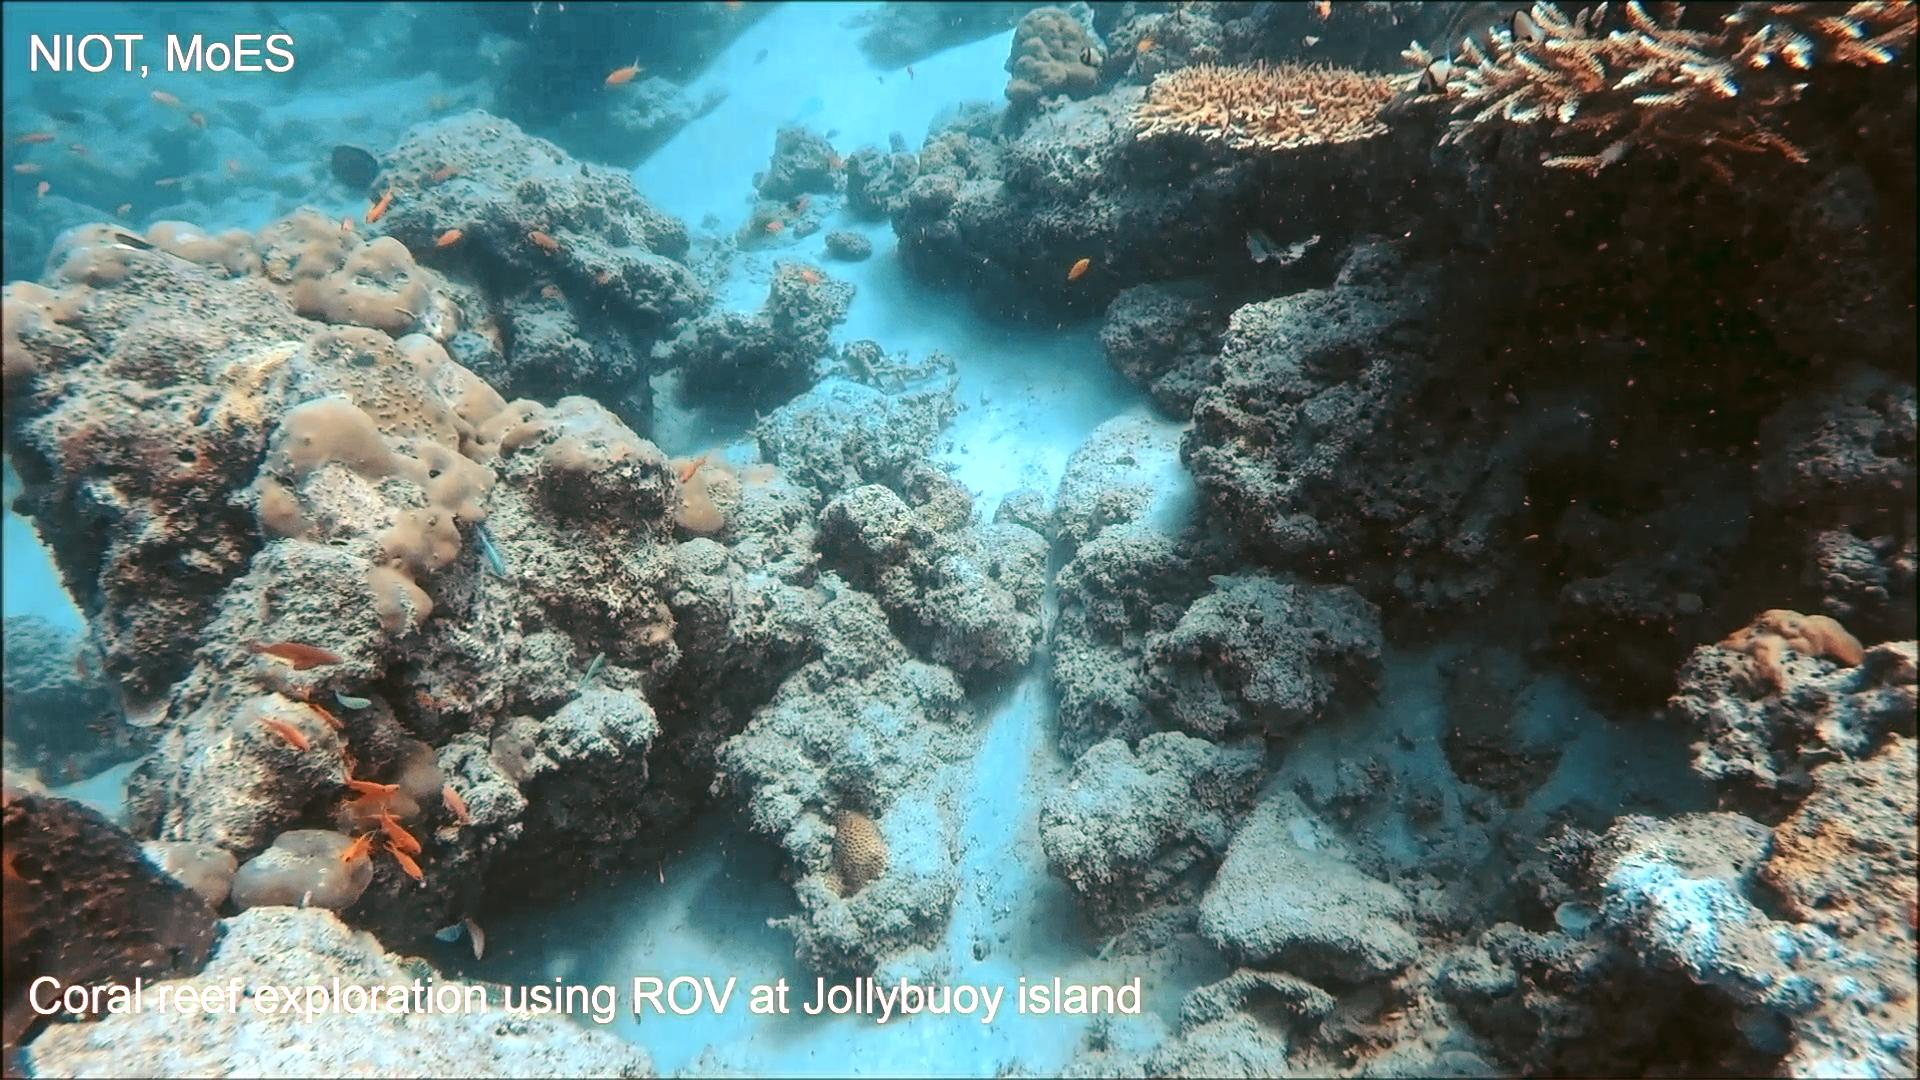Porites-Porites pukoensis: (237, 200, 558, 647)
